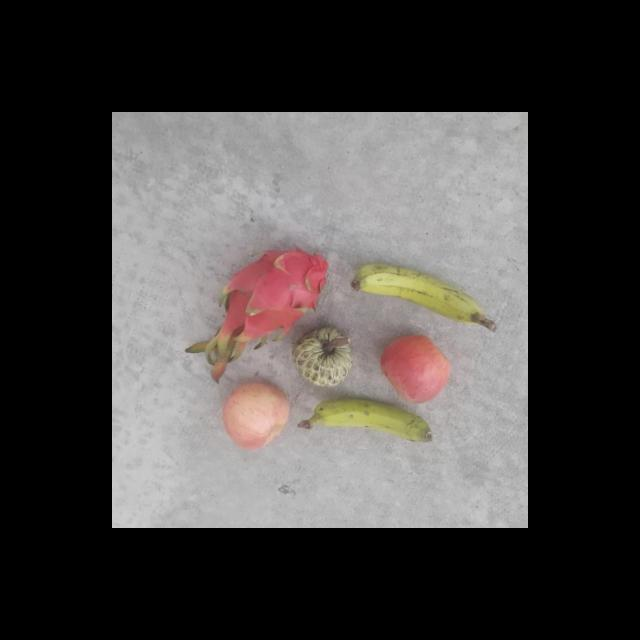Sakya fruit: (296, 328, 358, 389)
apple: (382, 334, 452, 404), (221, 385, 288, 451)
banana: (348, 260, 482, 333), (309, 392, 432, 447)
pitaya: (219, 244, 329, 338)
